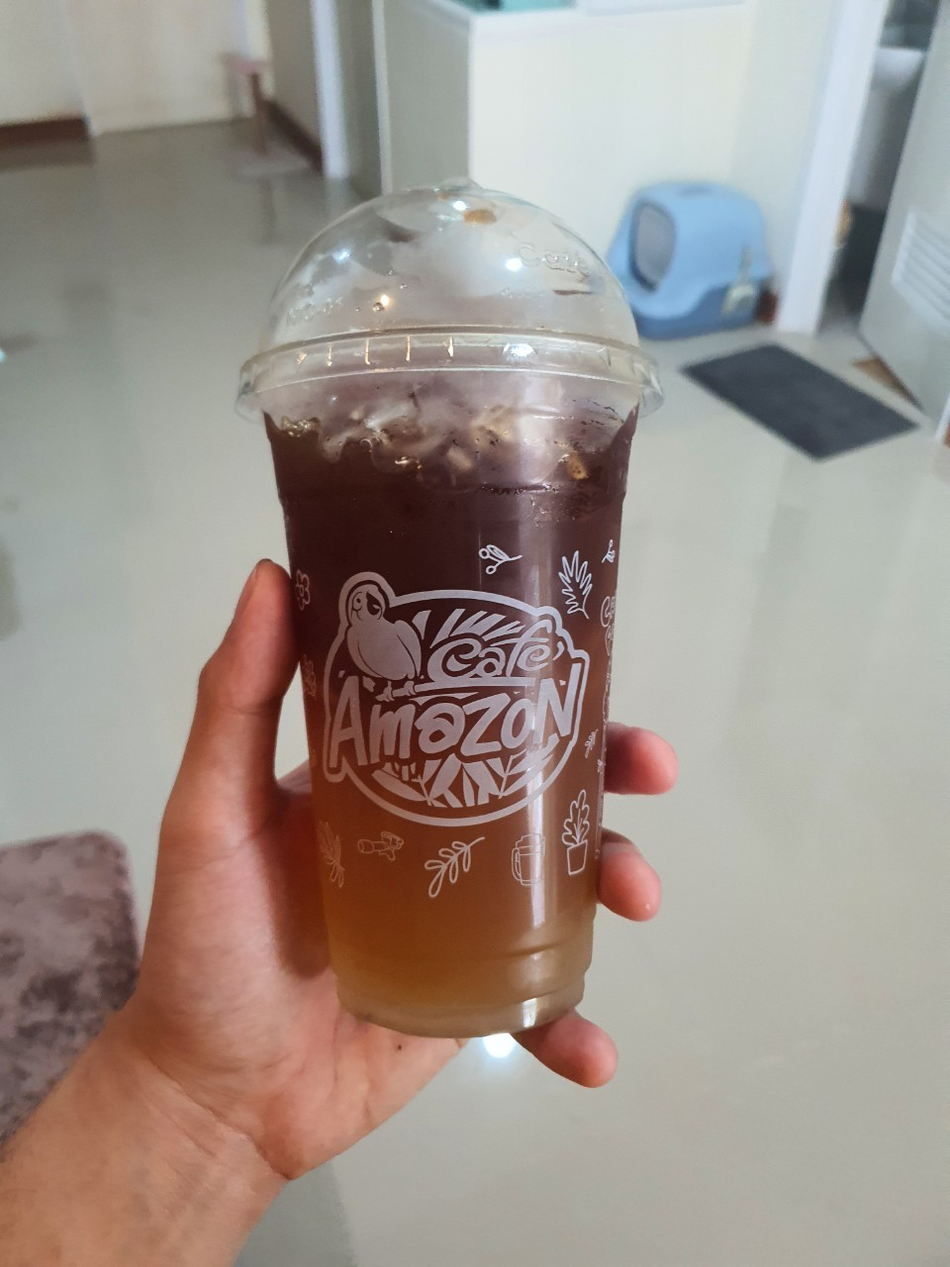plastic: (224, 163, 672, 1040)
